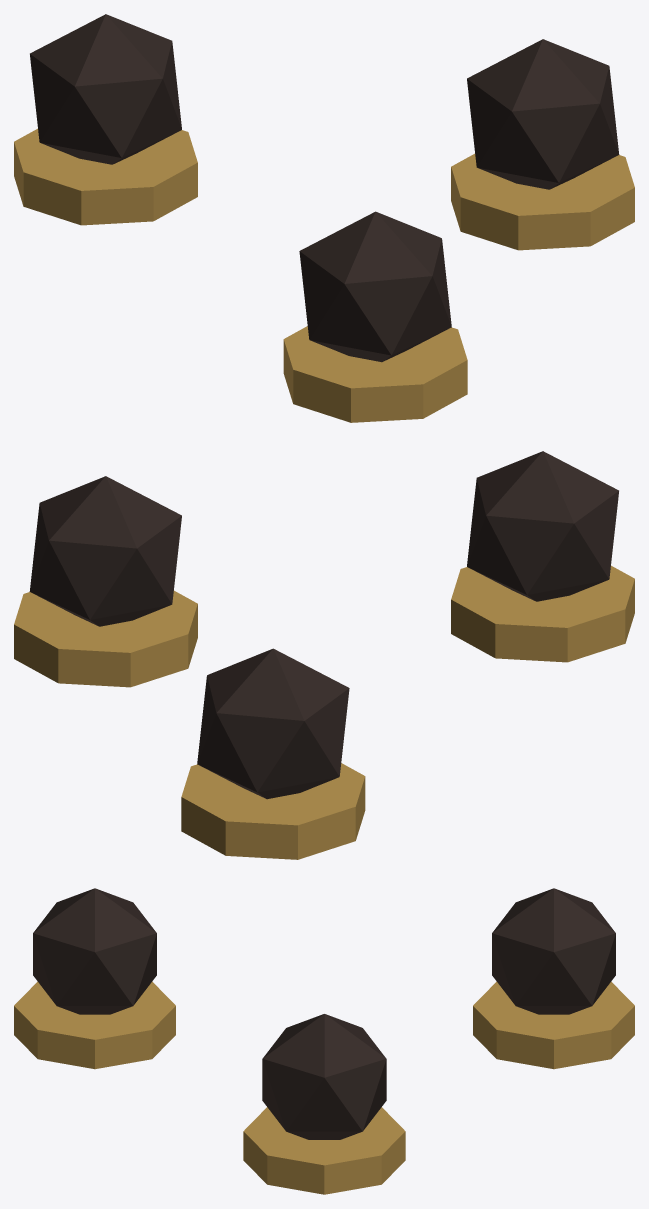
File: PirateCove_CannonballSlalom_Simple.glb
3 renders of one model, top to bottom at view 1: azimuth 30°, elevation 25°; view 2: azimuth 150°, elevation 25°; view 3: azimuth 270°, elevation 25°, orthographic. The views are drawn at different scales.
Parts seen in each view (by area): view 1: PirateCove_CannonballSlalom_Simple; view 2: PirateCove_CannonballSlalom_Simple; view 3: PirateCove_CannonballSlalom_Simple.
Part boxes in pixels (box(x1,y1,x2,y2)): PirateCove_CannonballSlalom_Simple: box(14, 14, 634, 422); PirateCove_CannonballSlalom_Simple: box(14, 451, 634, 859); PirateCove_CannonballSlalom_Simple: box(14, 888, 634, 1194).
Size of the model in its own units: 1.7 by 0.6 by 2.3.
